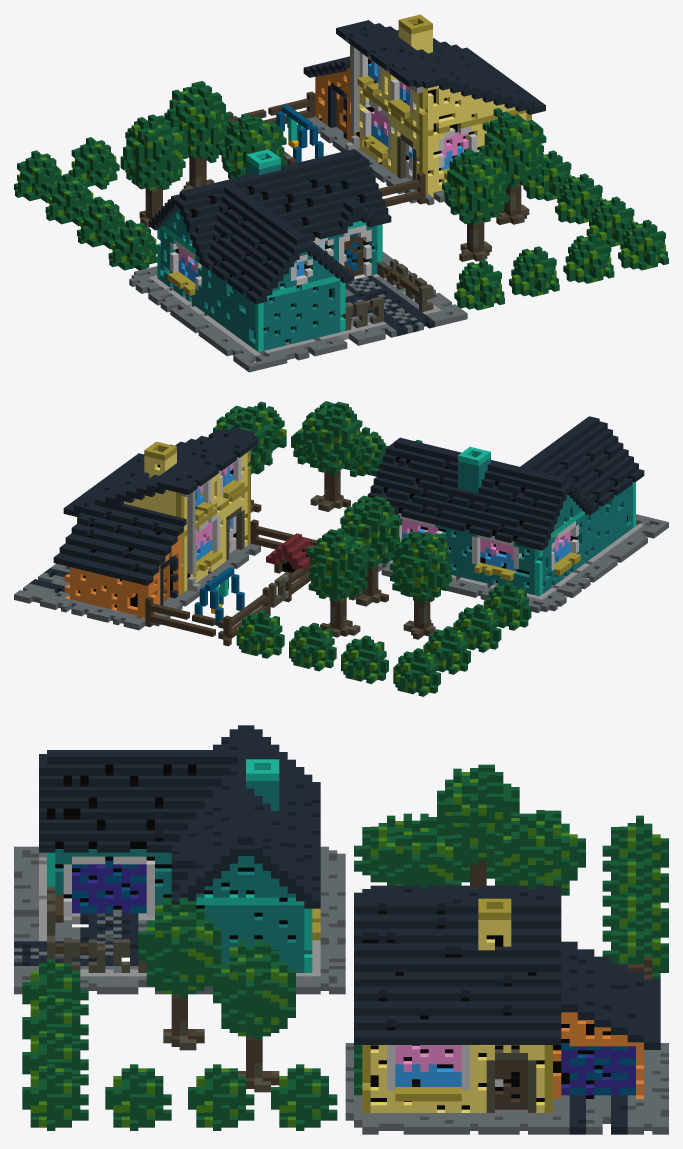
The model's file is building_small_10_damaged.obj.
3 renders of one model, top to bottom at view 1: azimuth 30°, elevation 25°; view 2: azimuth 150°, elevation 25°; view 3: azimuth 270°, elevation 25°, orthographic. The views are drawn at different scales.
Bounding box in the file's own units: 8 × 2.3 × 7.9.
1 material, 1 textured.
